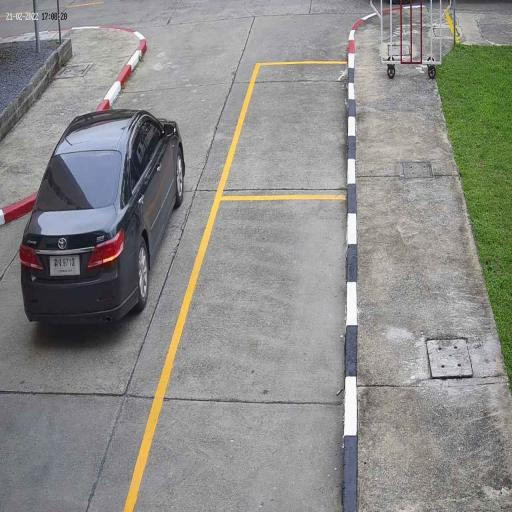car: (18, 106, 186, 328)
